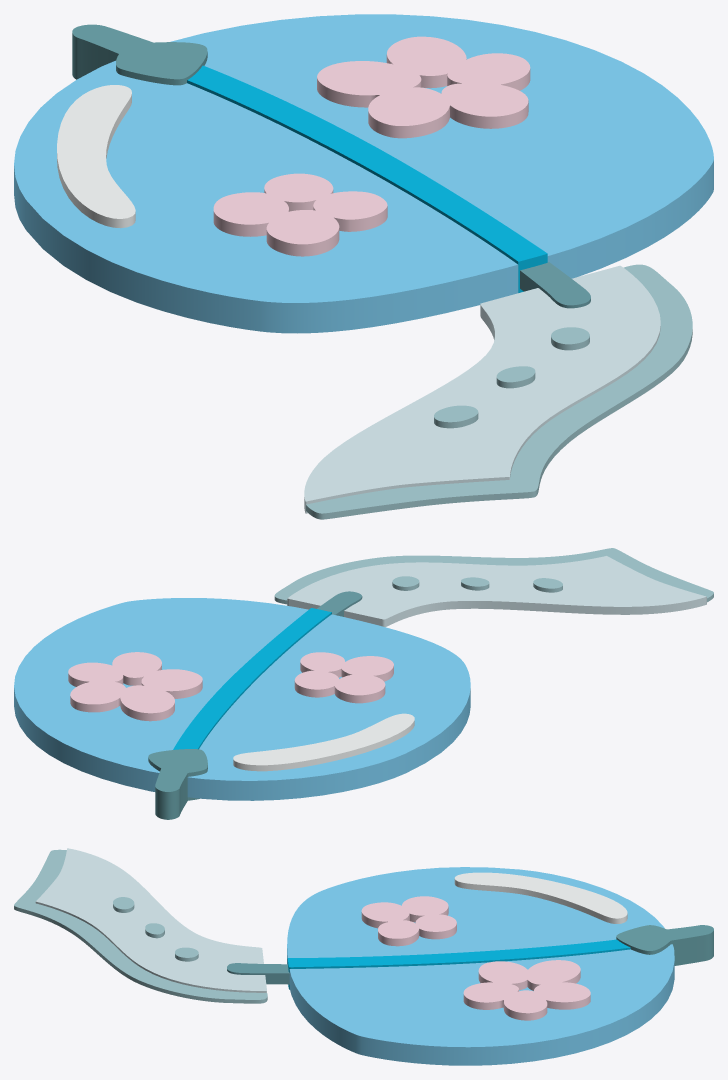
The model's file is emoji_u1f390.glb.
The picture shows the model from 3 angles, top to bottom: view 1: azimuth 30°, elevation 25°; view 2: azimuth 150°, elevation 25°; view 3: azimuth 270°, elevation 25°; orthographic projection. The views are drawn at different scales.
Parts seen in each view (by area): view 1: emoji_u1f390; view 2: emoji_u1f390; view 3: emoji_u1f390.
Boxes of the visible parts, x1,y1,x2,y2 form: emoji_u1f390: [14, 14, 713, 519]; emoji_u1f390: [14, 548, 713, 819]; emoji_u1f390: [14, 848, 713, 1065].
Size of the model in its own units: 0.0236 by 0.0018 by 0.0341.
